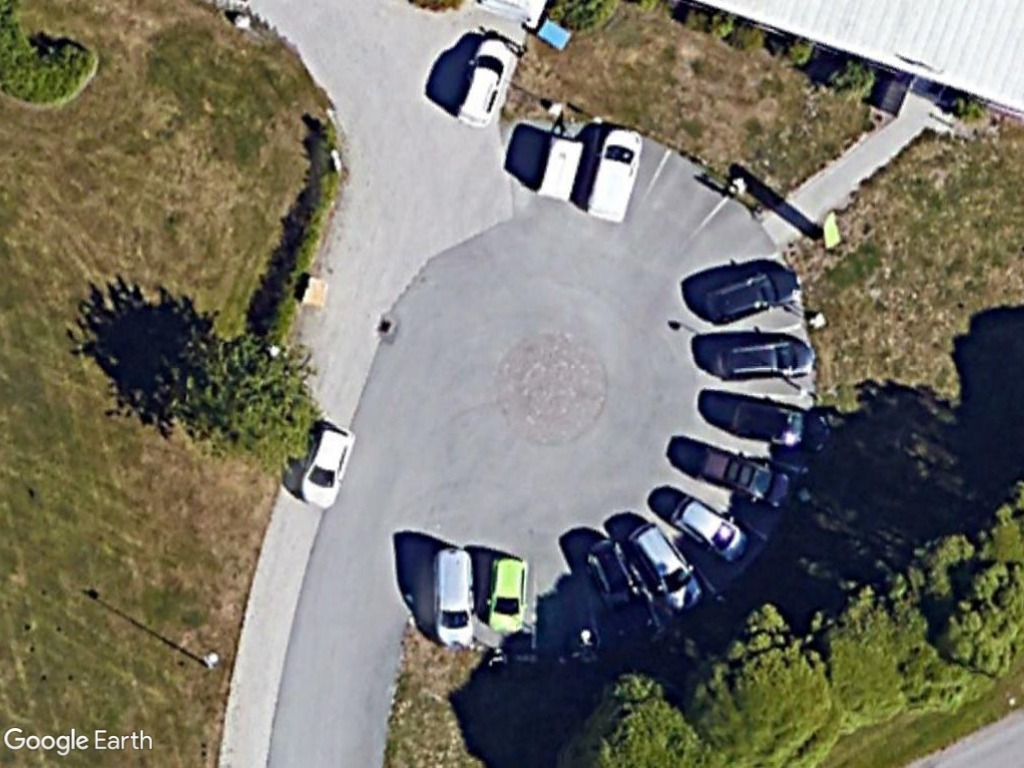car: (629, 522, 705, 613), (701, 265, 807, 327), (666, 493, 754, 564), (454, 36, 517, 130), (297, 421, 360, 511), (709, 335, 820, 384), (483, 552, 531, 637)
van: (581, 125, 646, 226), (431, 545, 478, 653)
